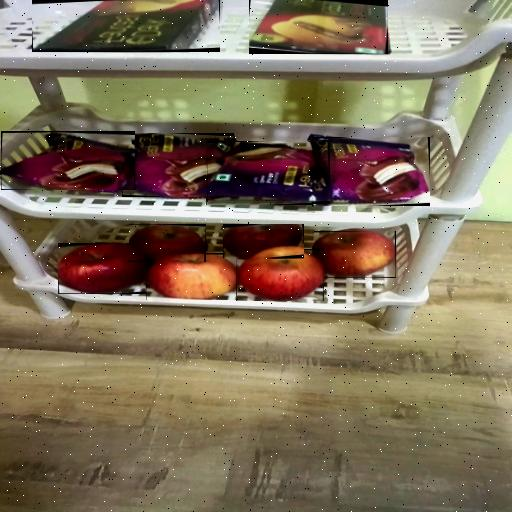Apple: (58, 243, 149, 294), (236, 249, 324, 301), (146, 253, 237, 300), (314, 231, 396, 278), (129, 224, 206, 262), (223, 224, 304, 258)
Choco Fills: (32, 0, 220, 52), (249, 0, 388, 54)
Choco Pie: (312, 138, 430, 208), (1, 131, 135, 190), (207, 143, 330, 202), (122, 133, 234, 197)
